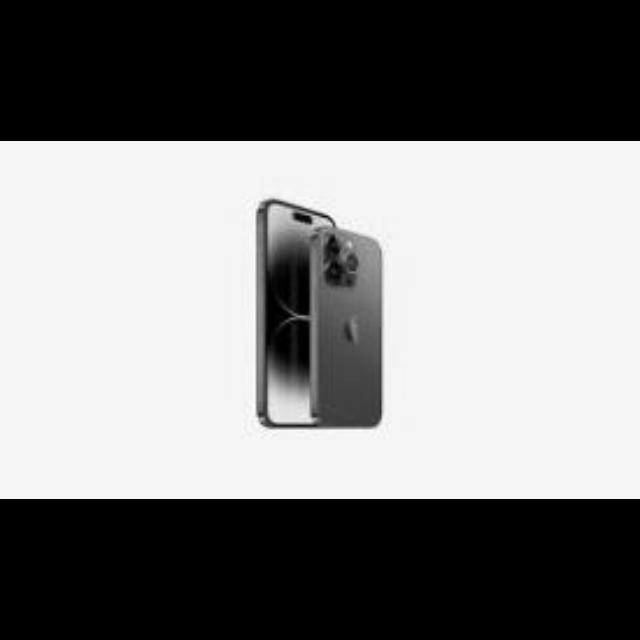fake: (252, 191, 386, 432)
